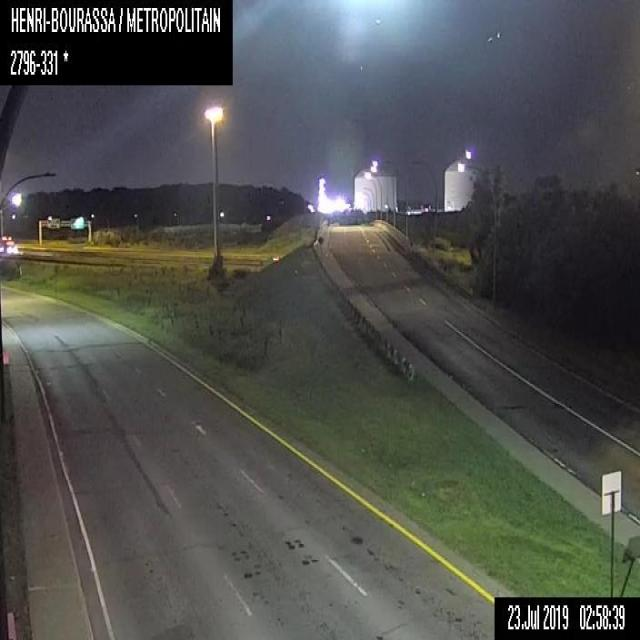vehicle: (0, 234, 16, 256)
